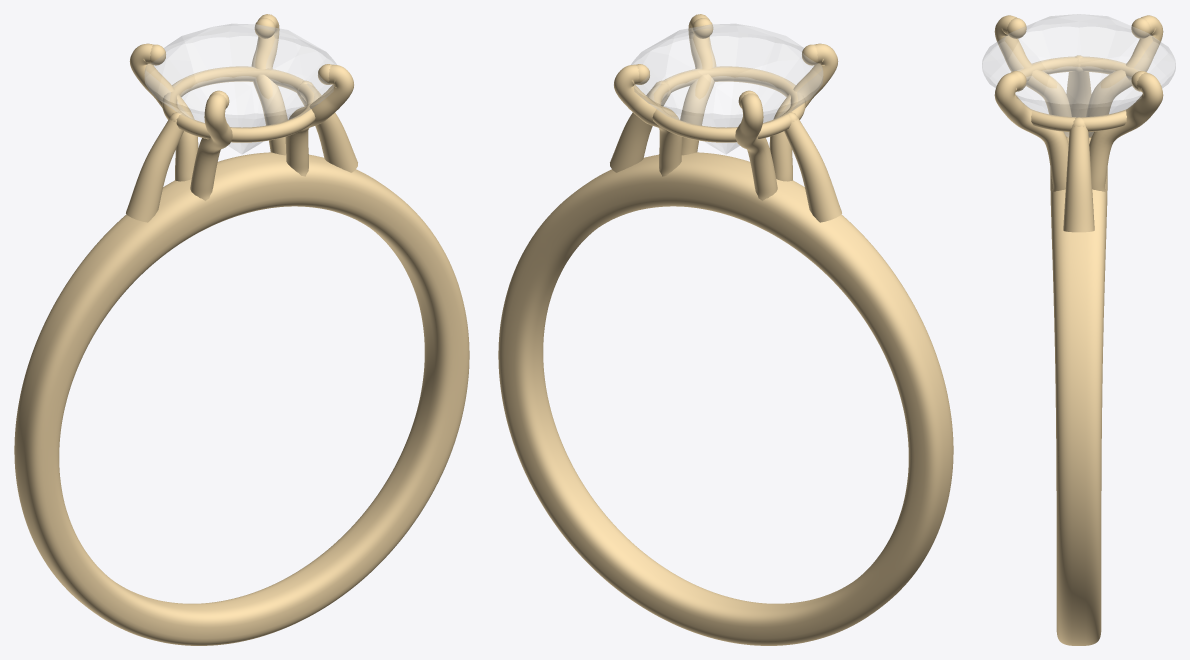
File: ring.glb
The picture shows the model from 3 angles, left to right: view 1: azimuth 30°, elevation 25°; view 2: azimuth 150°, elevation 25°; view 3: azimuth 270°, elevation 25°; orthographic projection.
Visible parts, largest first — view 1: ring_metal, ring_diamond; view 2: ring_metal, ring_diamond; view 3: ring_metal, ring_diamond.
Part boxes in pixels (x1,y1,x2,y2): ring_metal: (14, 14, 469, 645); ring_diamond: (145, 24, 336, 153); ring_metal: (498, 14, 953, 645); ring_diamond: (631, 24, 822, 153); ring_metal: (994, 15, 1163, 645); ring_diamond: (982, 14, 1175, 137).
Size of the model in its own units: 19.93 by 25.26 by 7.6.
